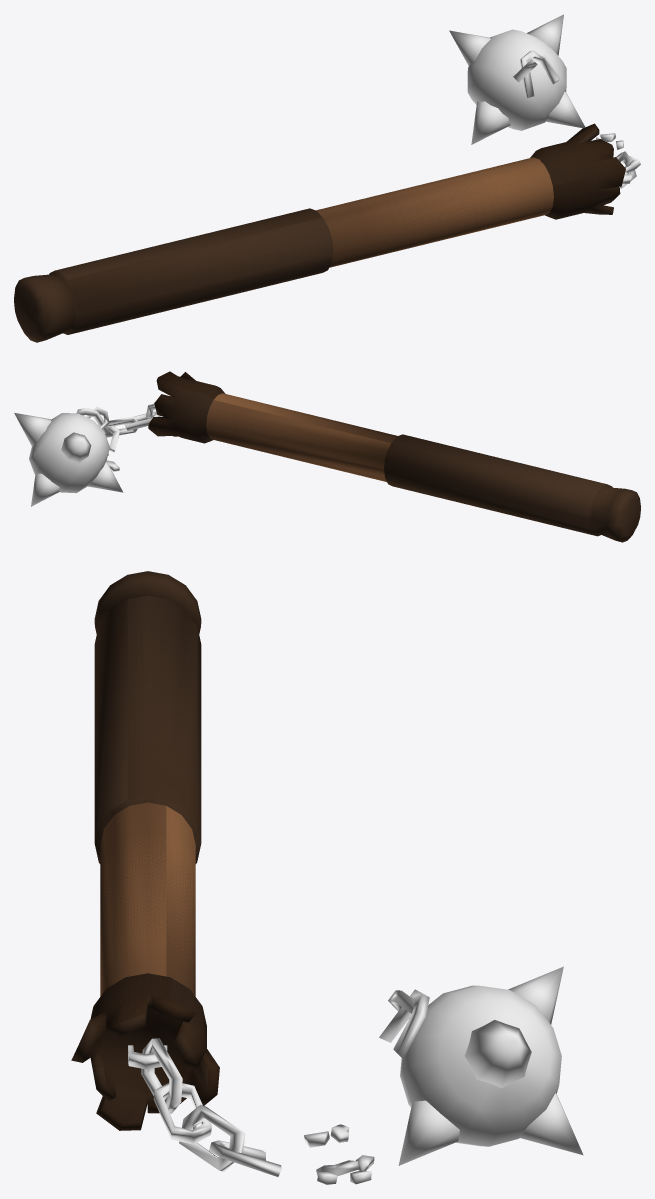
Rendered from broken mace.fbx.
3 renders of one model, top to bottom at view 1: azimuth 30°, elevation 25°; view 2: azimuth 150°, elevation 25°; view 3: azimuth 270°, elevation 25°, orthographic. The views are drawn at different scales.
Parts seen in each view (by area): view 1: mace; view 2: mace; view 3: mace.
Boxes of the visible parts, x1,y1,x2,y2 form: mace: (14,14,640,342); mace: (14,371,640,542); mace: (71,571,583,1184).
Bounding box in the file's own units: 134 × 18.99 × 56.31.
